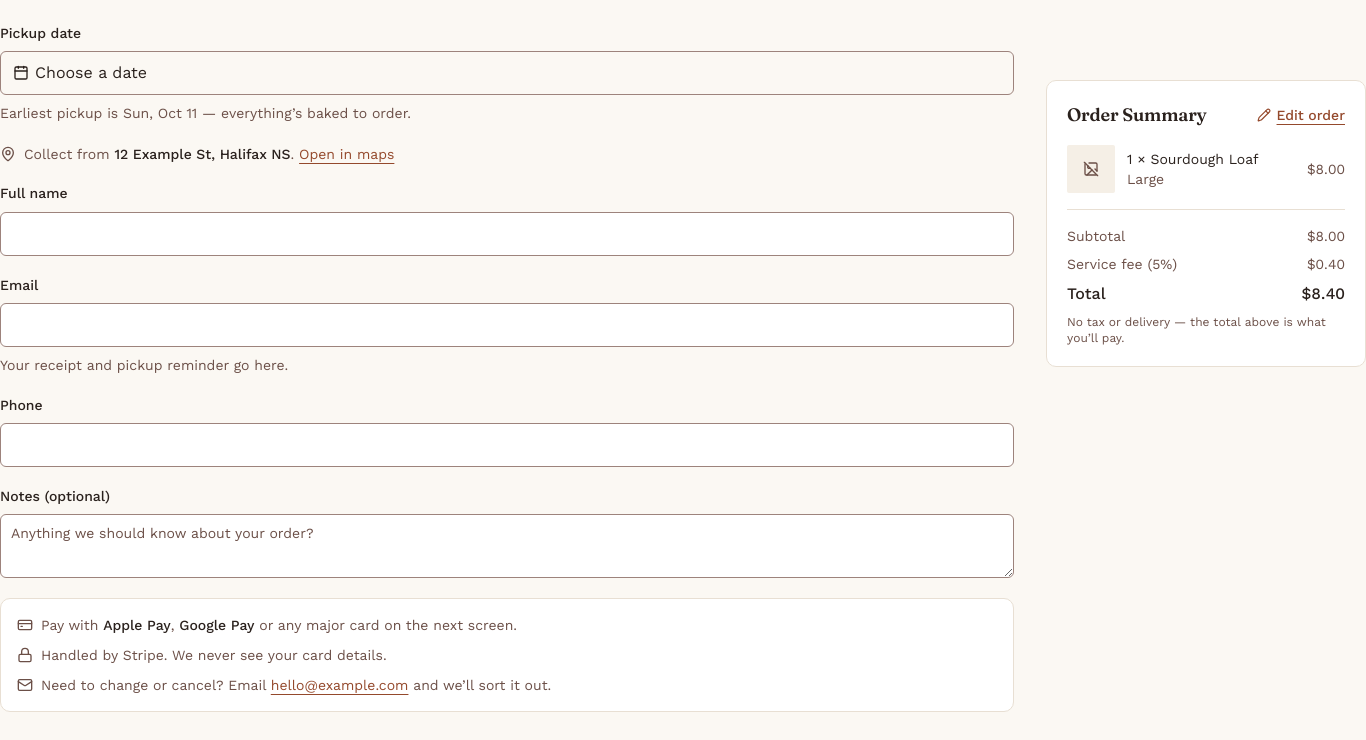
Scenario: CheckoutForm double-submit protection › drops the hint once a date is chosen
Expected: the text "Earliest pickup is" is shown, [0, 105, 123, 121]
Click the button named "pickup date": {"x": 91, "y": 73} [0, 51, 1014, 95]
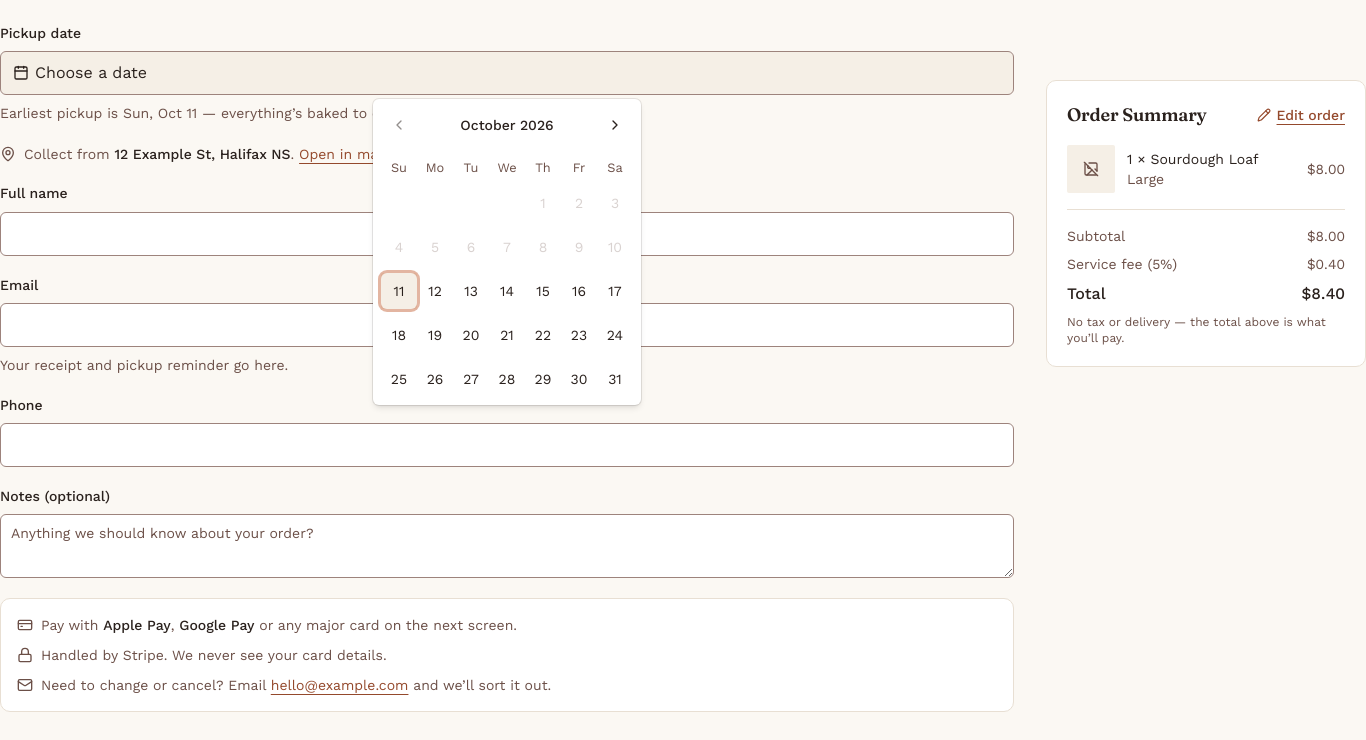
Click the button "11": {"x": 399, "y": 291} [381, 273, 417, 309]
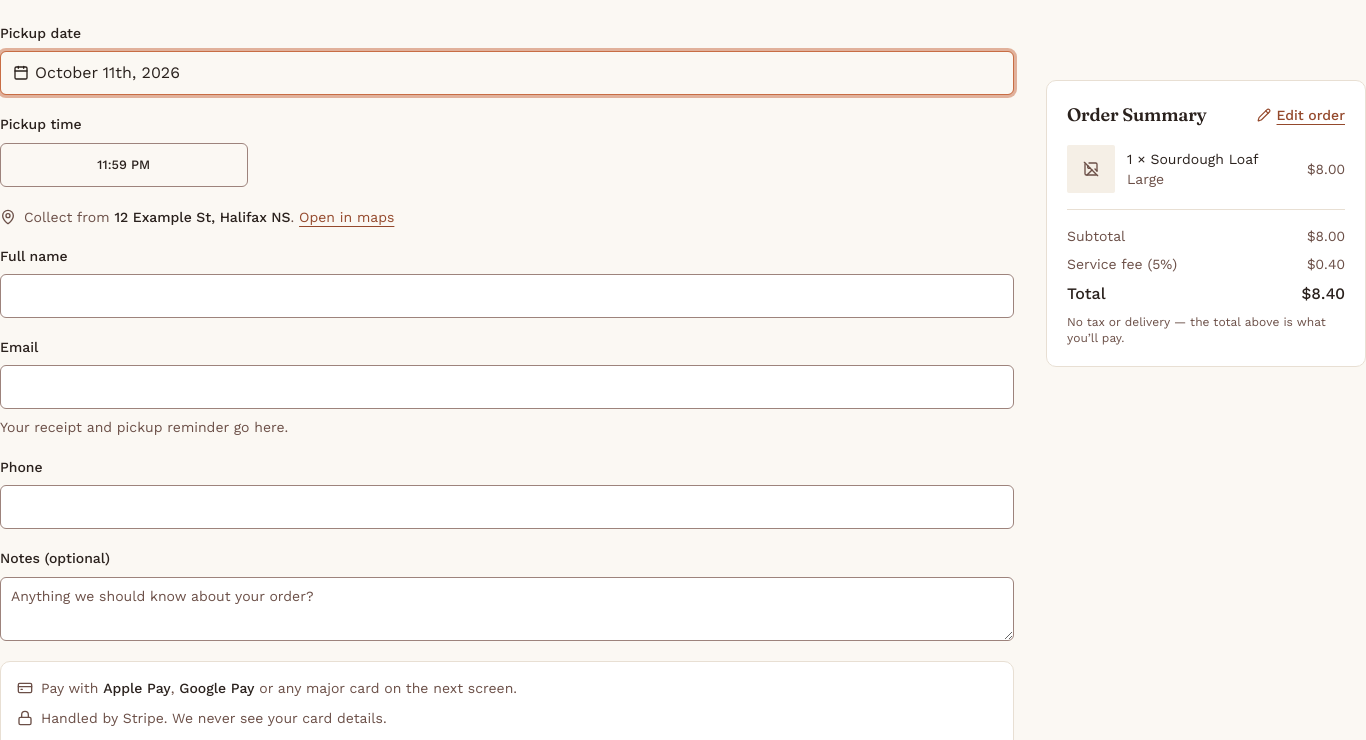
Expected: the text "Earliest pickup is" is gone
